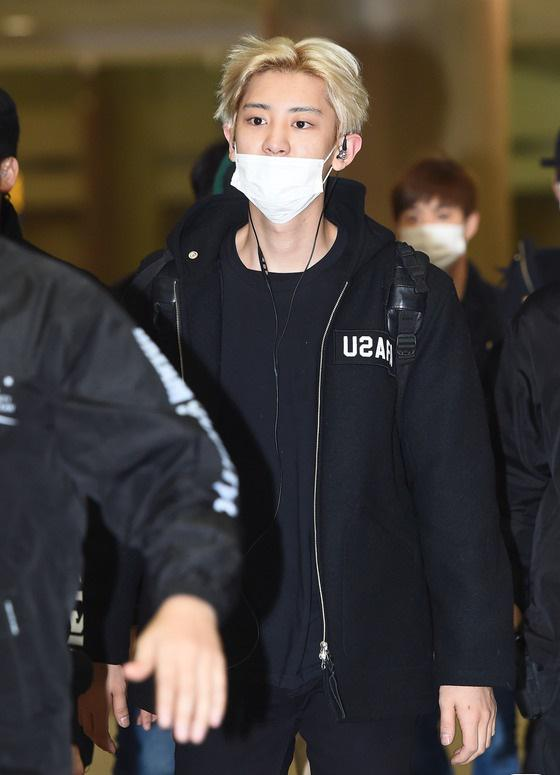OK: (395, 195, 475, 275)
WRONG: (221, 88, 350, 217)
